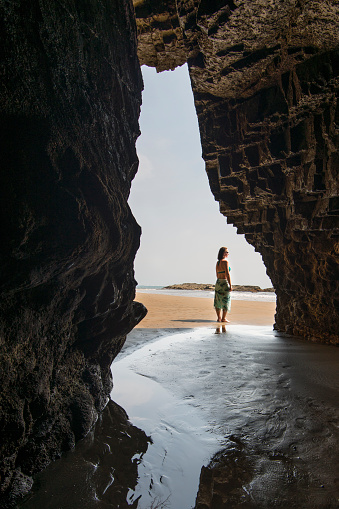em pe: (204, 251, 230, 330)
